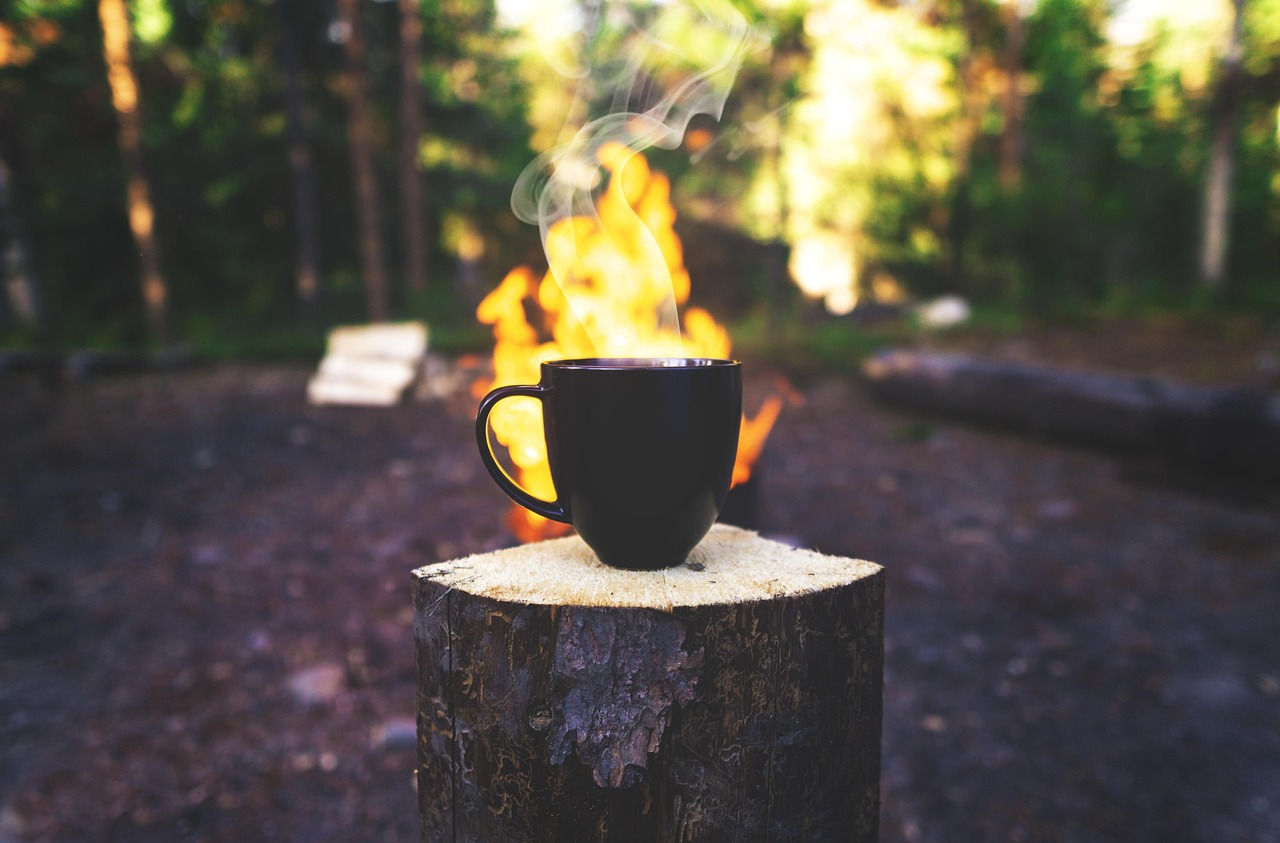mug: (458, 340, 775, 585)
